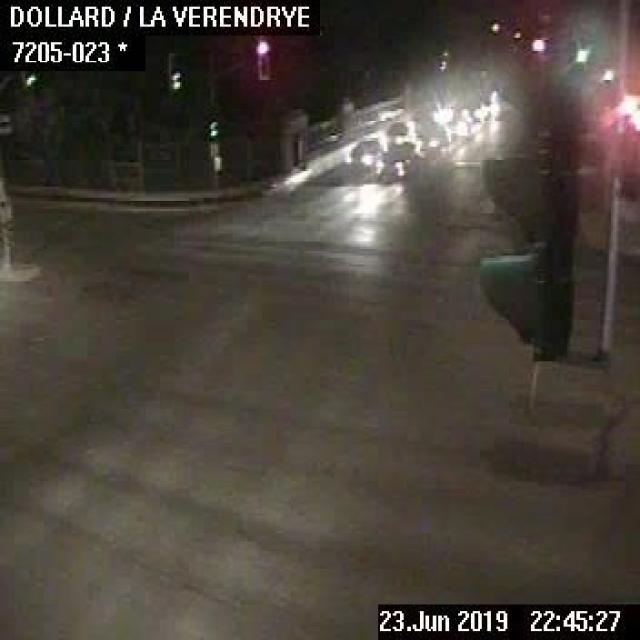vehicle: (342, 135, 383, 182), (375, 142, 416, 180), (411, 124, 447, 162), (381, 114, 412, 152)
